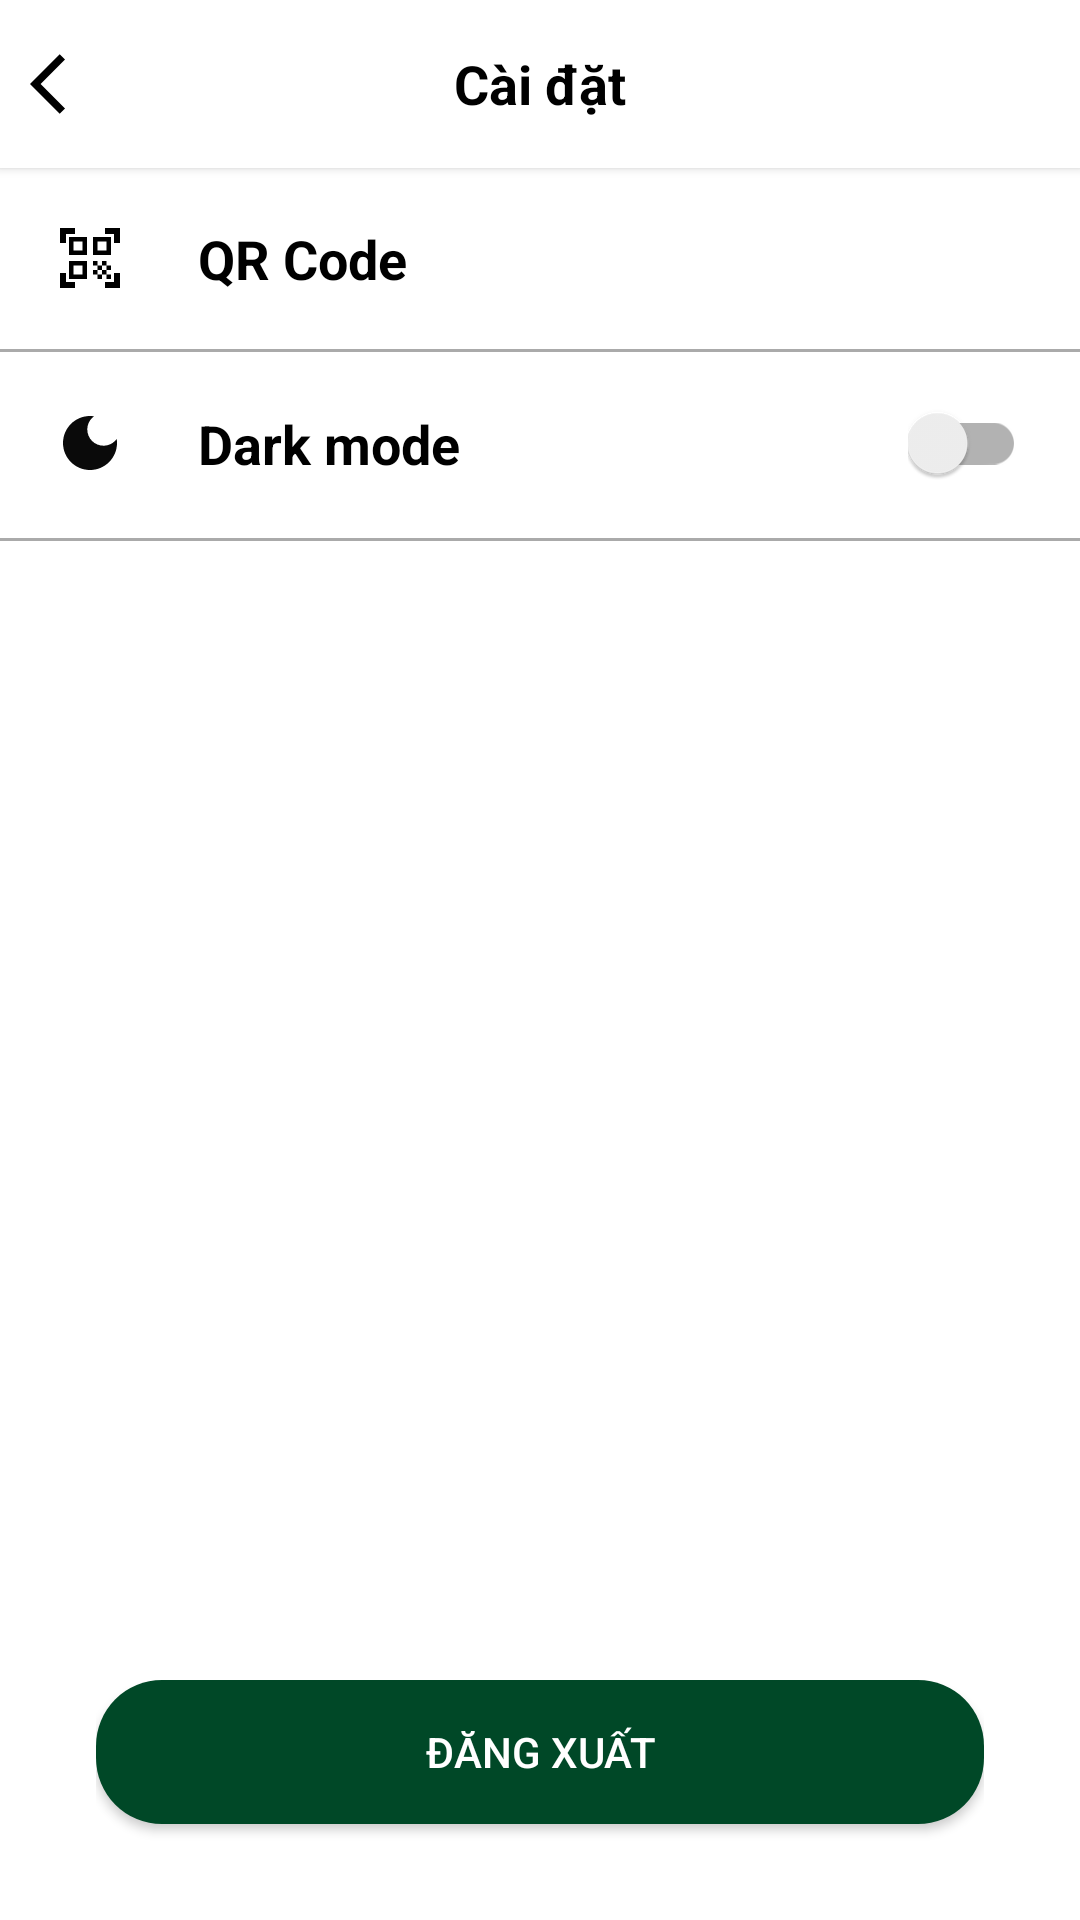

Screen size 1080x1920. Icon name, then its box in pixels as (x1, y1, x2, y2):
back: (30, 54, 65, 114)
